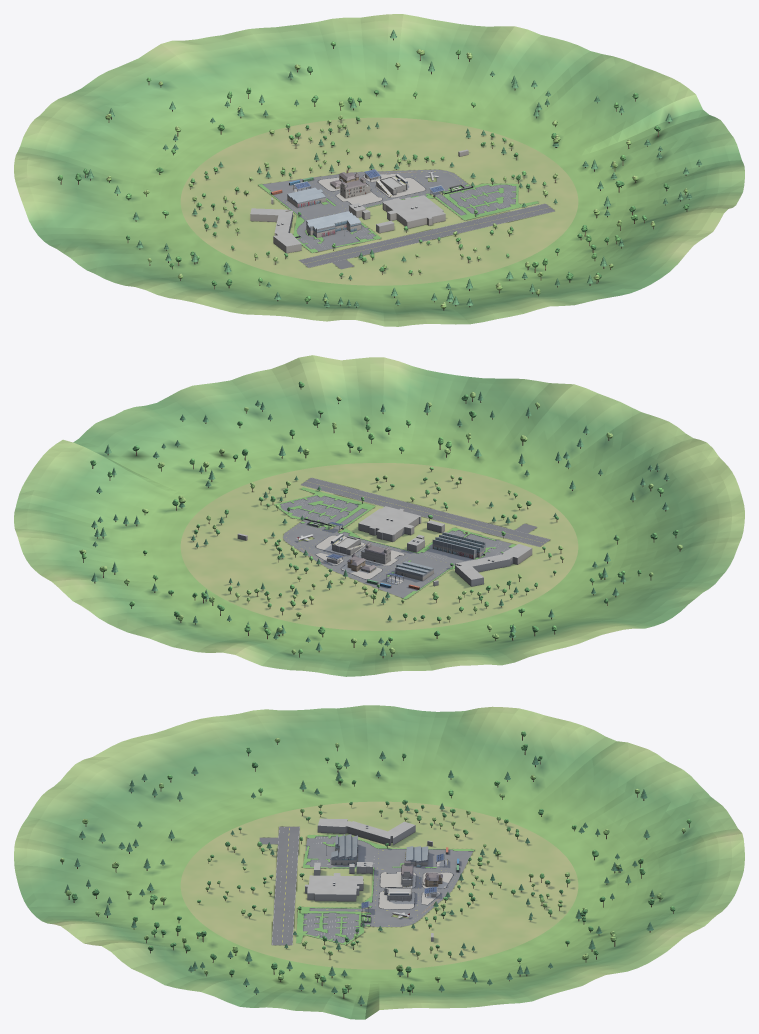
File: hftc_world.glb
The picture shows the model from 3 angles, top to bottom: view 1: azimuth 30°, elevation 25°; view 2: azimuth 150°, elevation 25°; view 3: azimuth 270°, elevation 25°; orthographic projection.
Visible parts, largest first — view 1: world; view 2: world; view 3: world.
Part boxes in pixels (bbox=[...]): world: bbox=[14, 14, 744, 326]; world: bbox=[14, 355, 744, 676]; world: bbox=[14, 705, 744, 1019].
Size of what is drawn, in the model's own units: 2500 by 151 by 2500.
